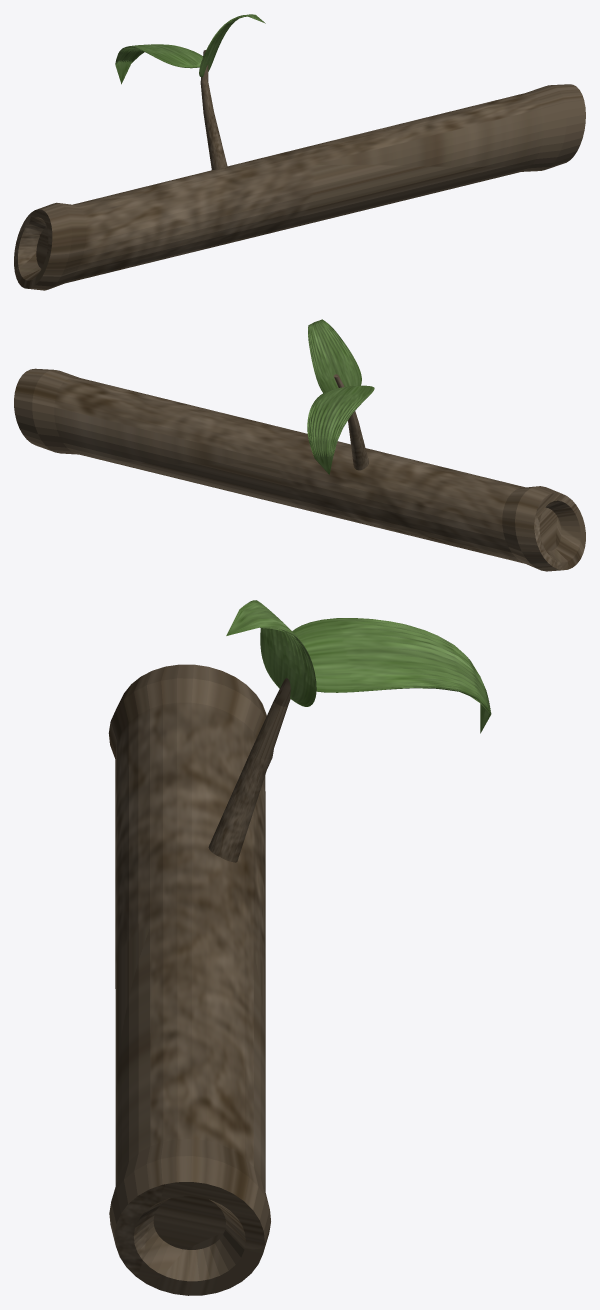
The model's file is branche_bois.fbx.
3 views of the same model, one above another, from view 1: azimuth 30°, elevation 25°; view 2: azimuth 150°, elevation 25°; view 3: azimuth 270°, elevation 25° (orthographic). The views are drawn at different scales.
Visible parts, largest first — view 1: Cylinder.012, Cone, Cylinder, Cone.001; view 2: Cylinder.012, Cone, Cone.001, Cylinder; view 3: Cylinder.012, Cone, Cylinder, Cone.001.
Part boxes in pixels (x1,y1,x2,y2): Cylinder.012: [14, 84, 585, 290]; Cone: [115, 44, 202, 84]; Cylinder: [200, 50, 227, 169]; Cone.001: [199, 14, 265, 77]; Cylinder.012: [14, 368, 585, 571]; Cone: [307, 385, 374, 474]; Cone.001: [308, 319, 361, 393]; Cylinder: [333, 374, 368, 470]; Cylinder.012: [108, 664, 273, 1295]; Cone: [292, 618, 491, 733]; Cylinder: [208, 678, 290, 862]; Cone.001: [226, 600, 316, 706].
Size of the model in its own units: 713 by 256 by 216.
Materials: 4 (4 with a texture image).
